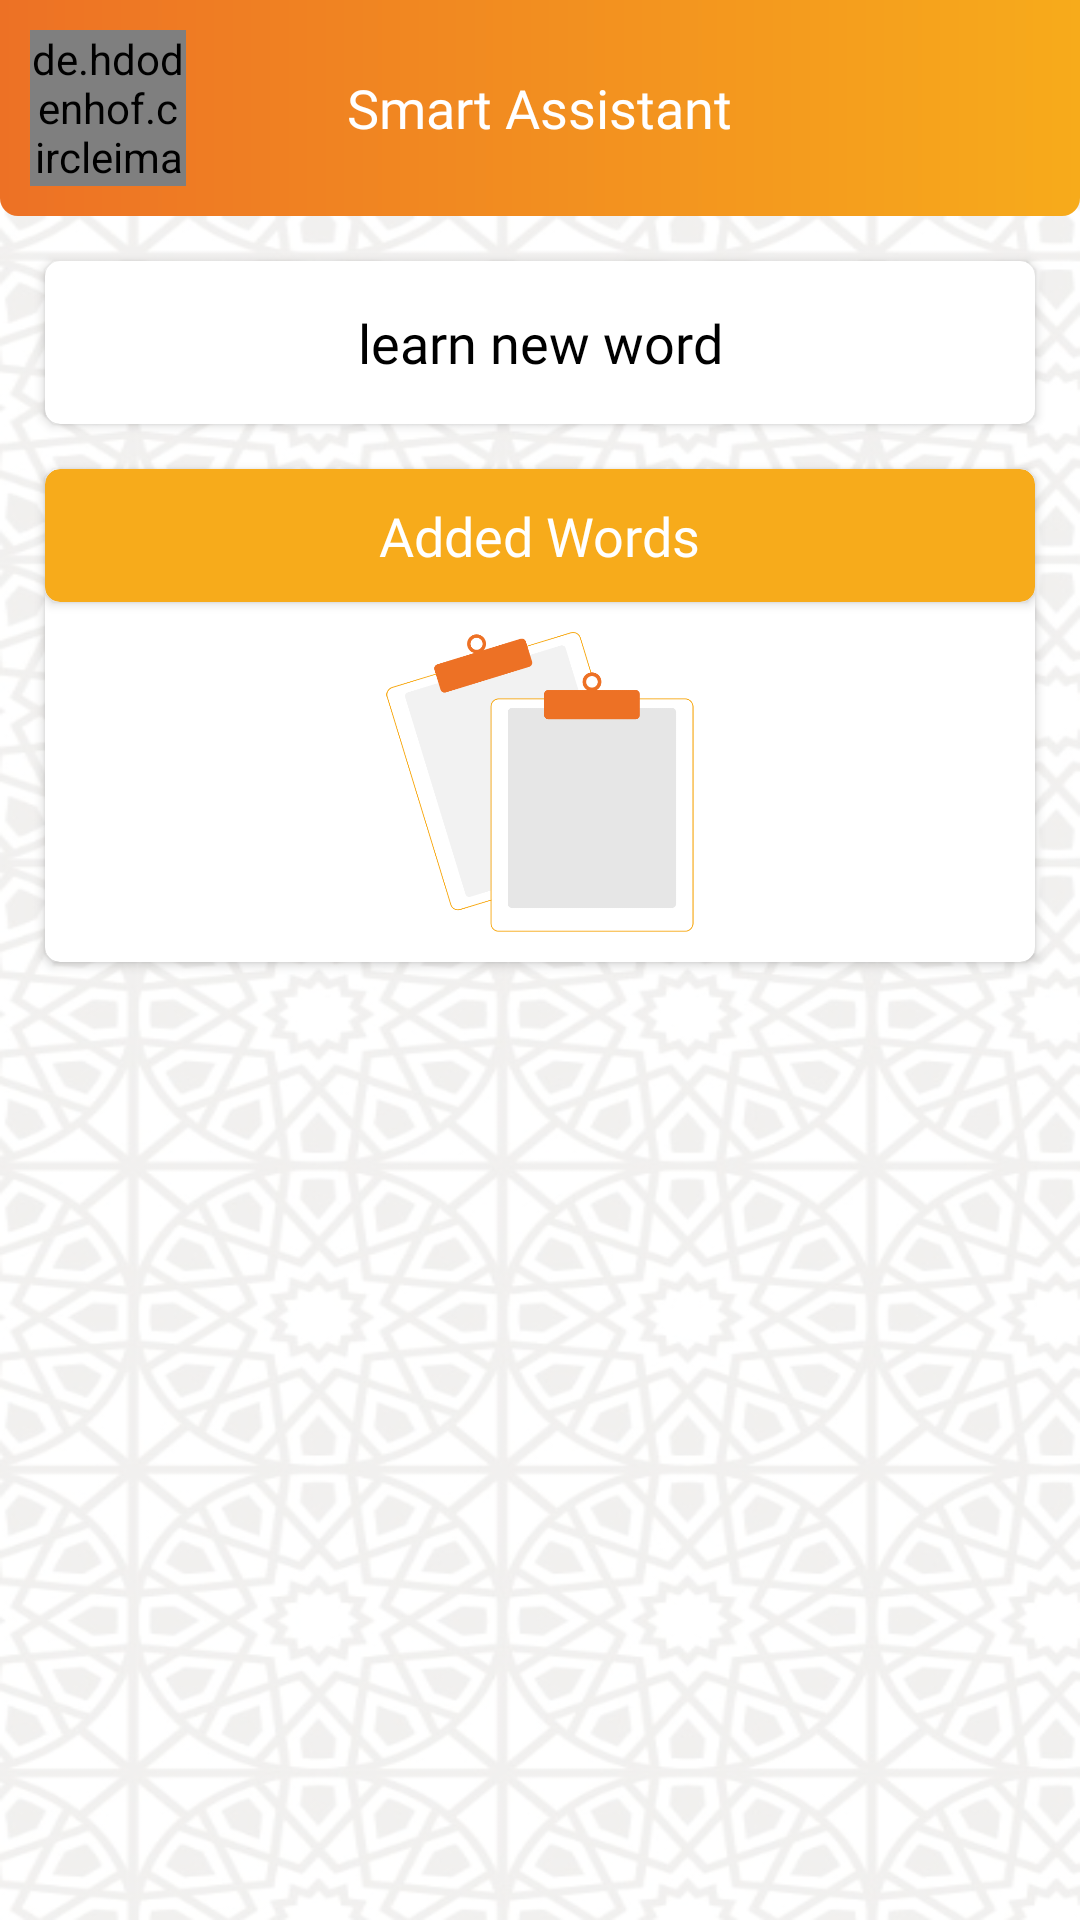

Screen size 1080 x 1920. Icon name, then its center in pixels as (x,y):
empty: (540,782)
